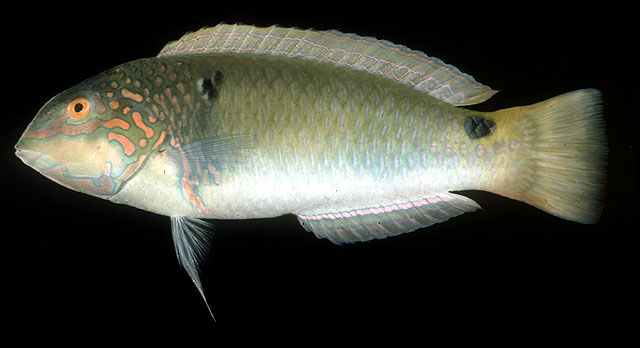fish: (15, 22, 609, 323)
